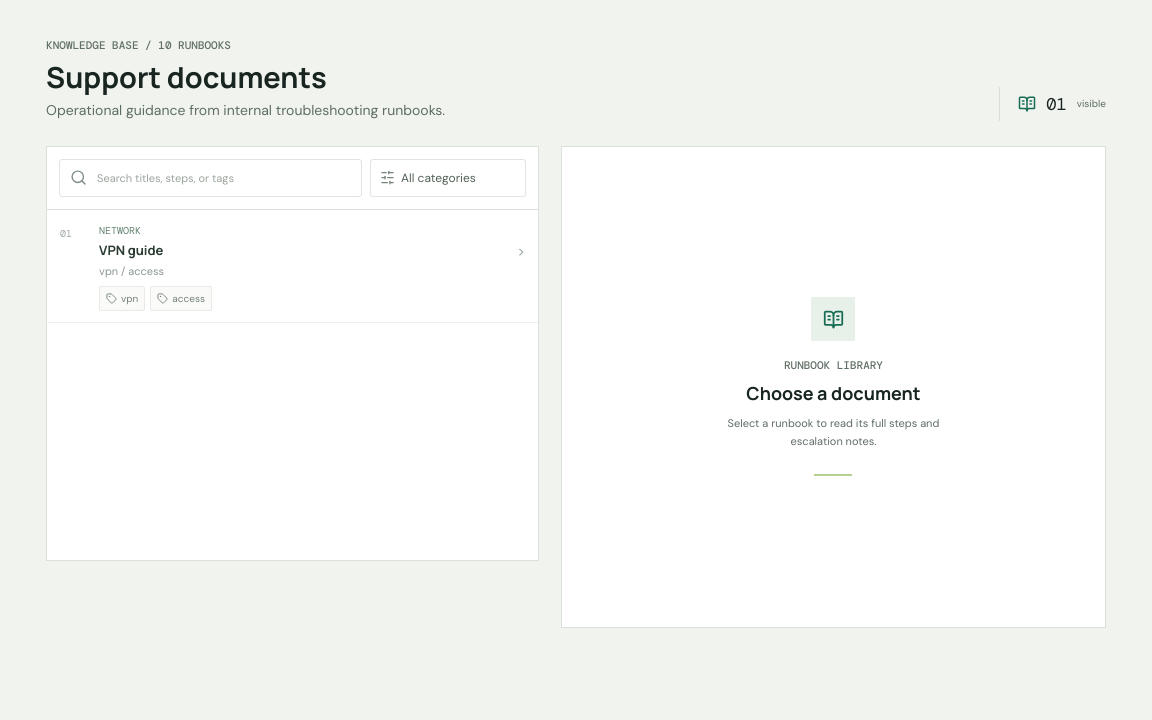
Scenario: DocumentsView › loads document filters, opens and closes reader, and reports list/detail errors
Check: the button "01 Network VPN guide vpn / access >" is shown, box [60,214,525,286]
In the field named "Search documents": (223,178) [95,160,351,196], type "password"
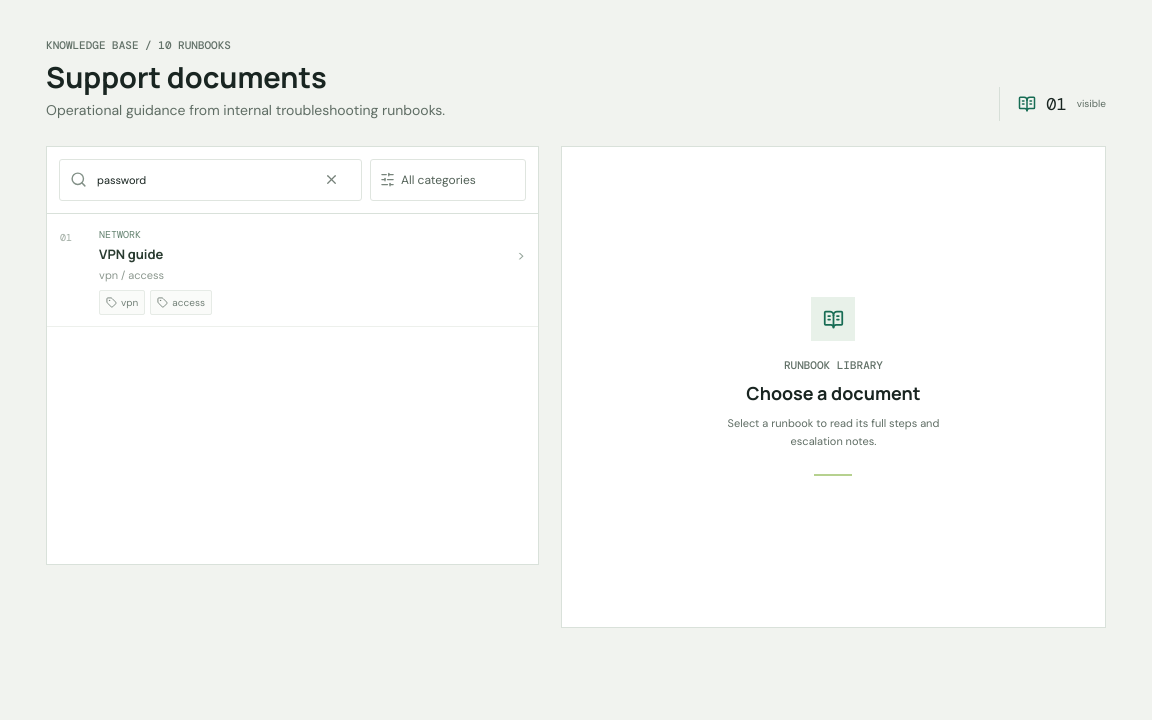
Click the button "01 Network VPN guide vpn / access >": (120,234) [60,218,525,290]
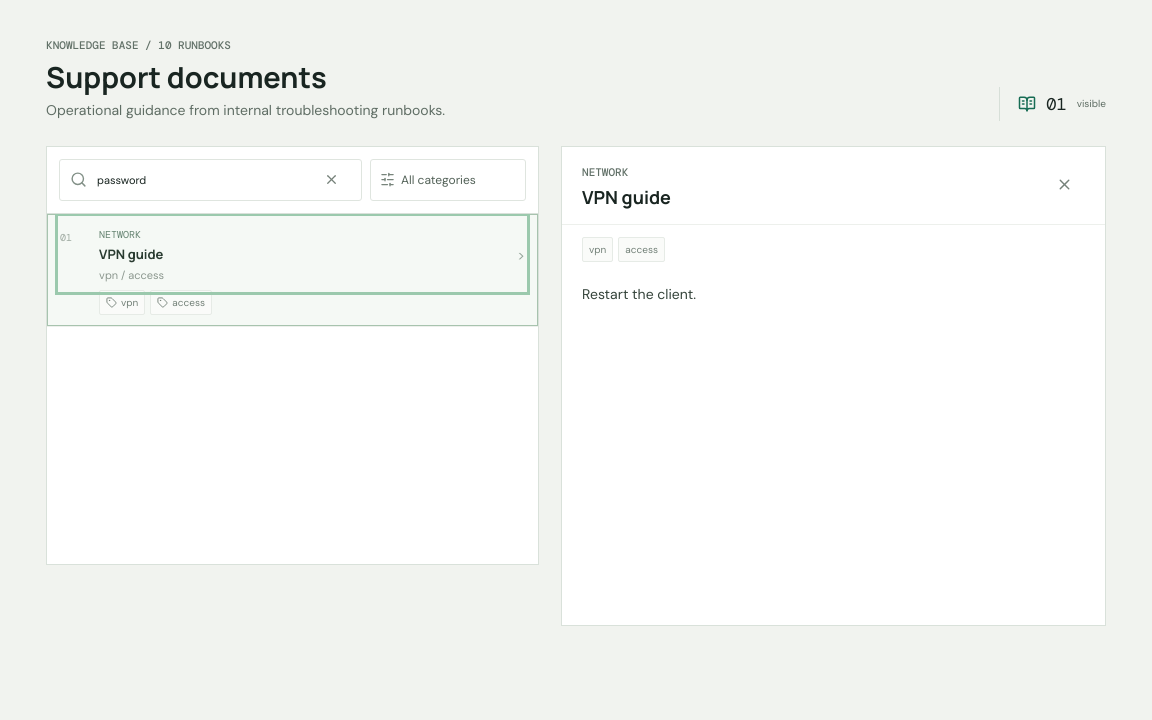
Check: the heading "VPN guide" is shown, box [582,184,671,211]
Click the button named "Close document": (1065,185) [1045,165,1085,205]
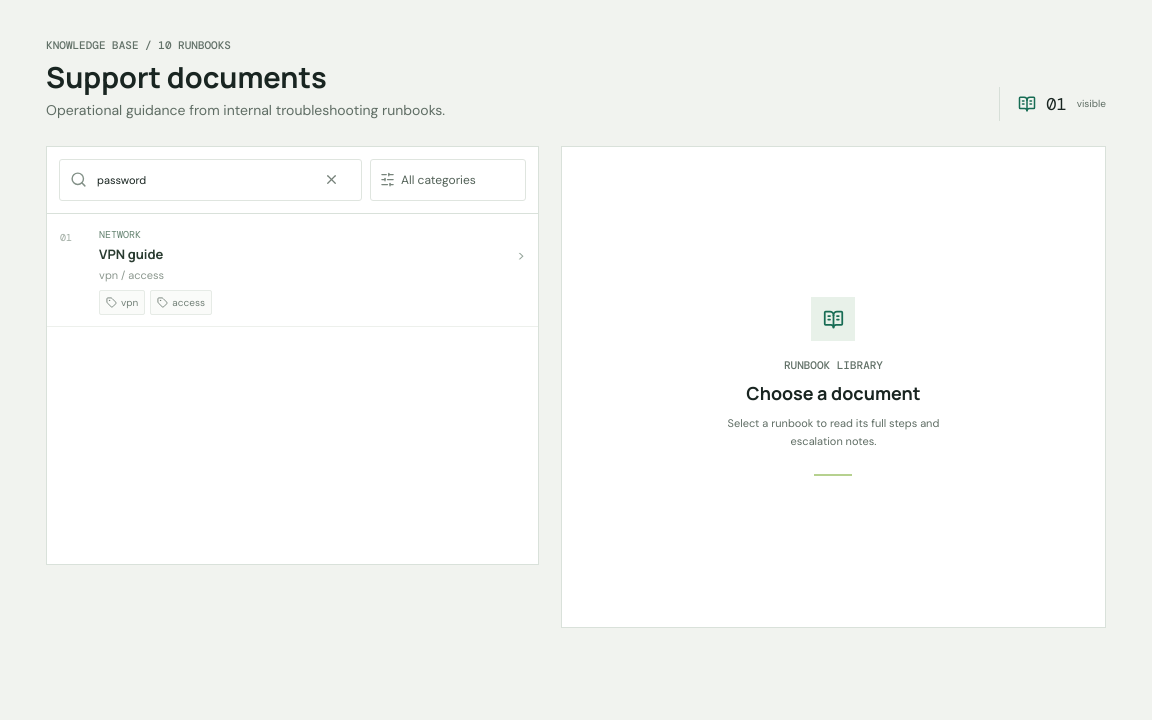
Check: the heading "Choose a document" is shown, box [746,380,921,407]
Click the button "01 Network VPN guide vpn / access >": (120,234) [60,218,525,290]
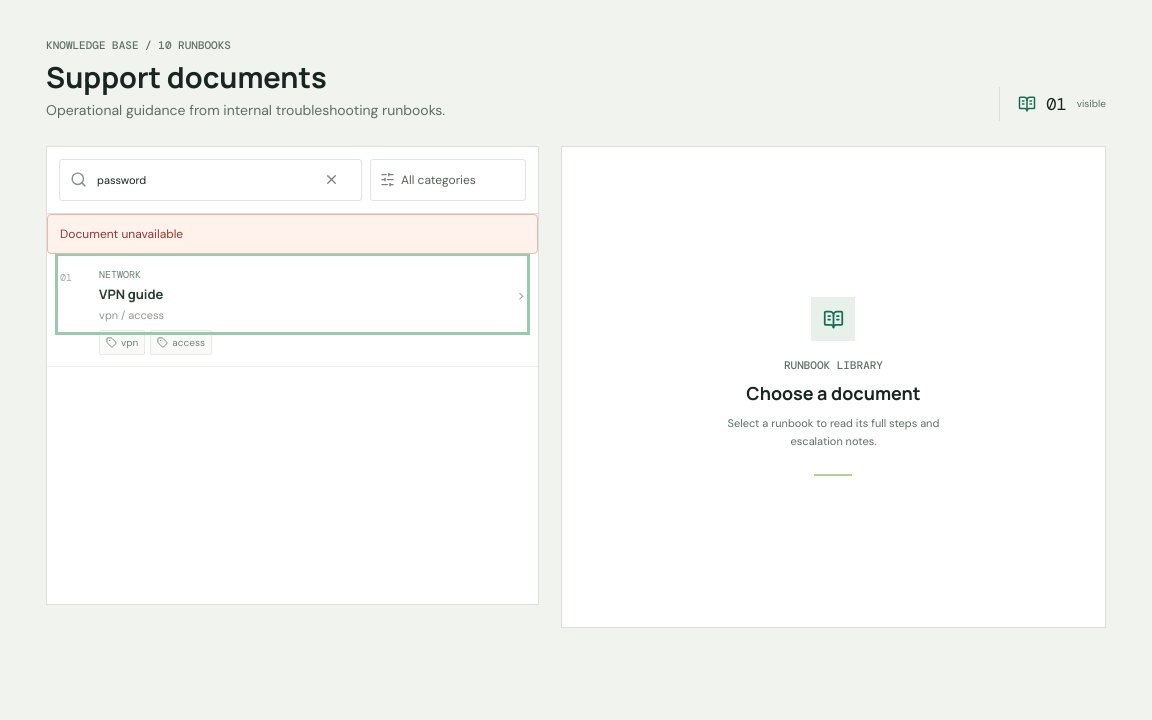
Check: the text "Document unavailable" is shown, box [47,214,538,254]
